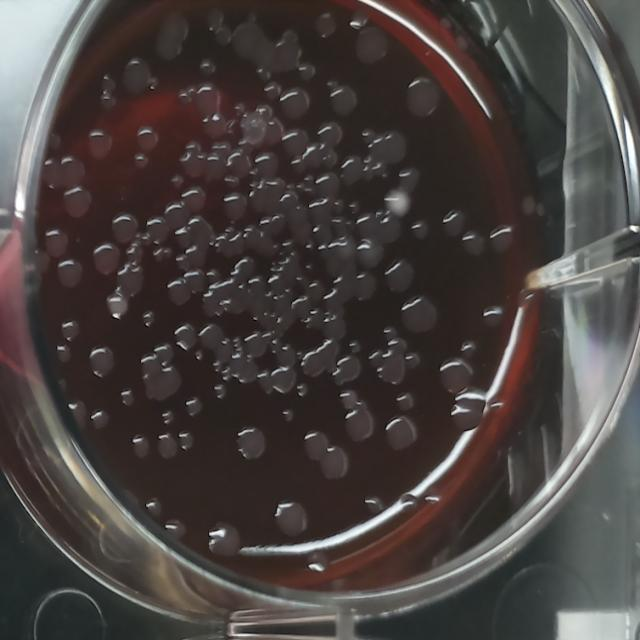Bacillus: (236, 109, 268, 149)
Staphylococcus: (382, 186, 412, 222)
